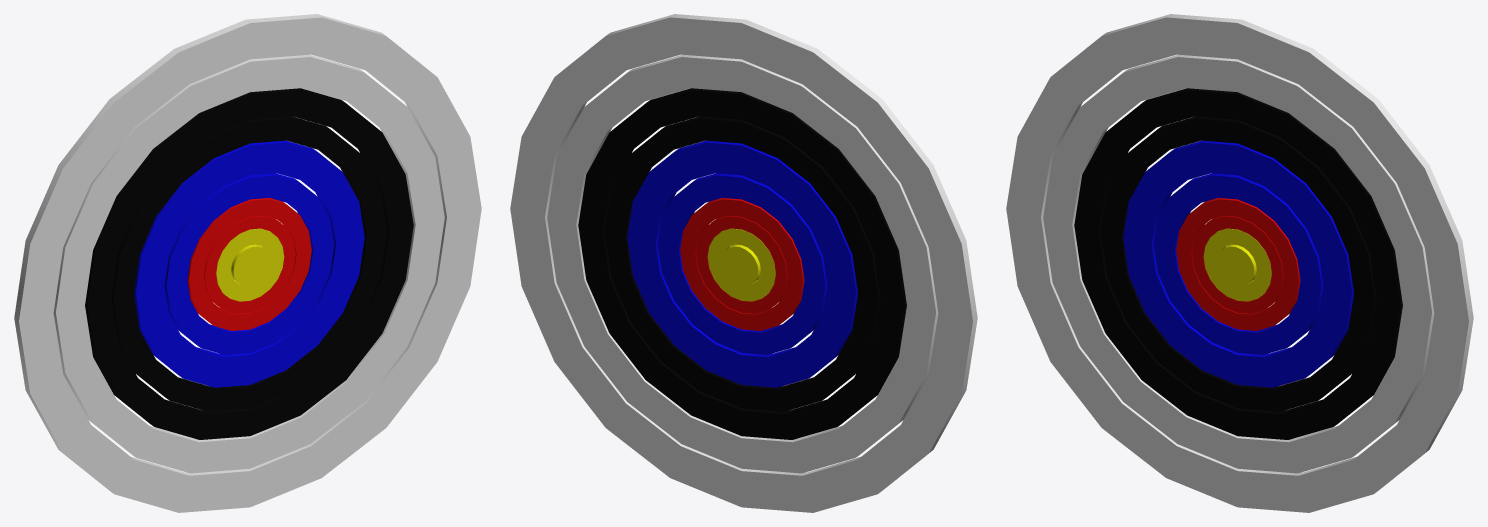
The model's file is target.fbx.
3 views of the same model, side by side, from view 1: azimuth 30°, elevation 25°; view 2: azimuth 150°, elevation 25°; view 3: azimuth 330°, elevation 25° (orthographic).
Parts seen in each view (by area): view 1: pPipe10, pPipe9, pPipe8, pPipe6, pPipe7, pPipe5, pPipe4, pPipe3, pPipe2, pCylinder1, pPipe1; view 2: pPipe10, pPipe9, pPipe8, pPipe6, pPipe7, pPipe5, pPipe4, pPipe3, pPipe2, pCylinder1, pPipe1; view 3: pPipe10, pPipe9, pPipe8, pPipe6, pPipe7, pPipe5, pPipe4, pPipe3, pPipe2, pCylinder1, pPipe1.
Part boxes in pixels (x1,y1,x2,y2): pPipe10: (14,14,481,512); pPipe9: (53,54,444,473); pPipe8: (85,88,413,439); pPipe6: (134,140,364,387); pPipe7: (111,116,387,411); pPipe5: (164,173,333,354); pPipe4: (187,198,311,330); pPipe3: (204,215,295,313); pPipe2: (216,228,284,301); pCylinder1: (231,244,270,286); pPipe1: (225,237,275,292); pPipe10: (510,14,977,512); pPipe9: (547,54,938,473); pPipe8: (578,88,906,439); pPipe6: (627,140,857,387); pPipe7: (604,116,880,411); pPipe5: (658,173,827,354); pPipe4: (680,198,804,330); pPipe3: (696,215,787,313); pPipe2: (707,228,775,301); pCylinder1: (721,244,760,286); pPipe1: (716,238,766,292); pPipe10: (1006,14,1473,512); pPipe9: (1043,54,1434,473); pPipe8: (1074,88,1402,439); pPipe6: (1123,140,1353,387); pPipe7: (1100,116,1376,411); pPipe5: (1154,173,1323,354); pPipe4: (1176,198,1300,330); pPipe3: (1192,215,1283,313); pPipe2: (1203,228,1271,301); pCylinder1: (1217,244,1256,286); pPipe1: (1212,237,1262,292).
Bounding box in the file's own units: 2.85 × 2.85 × 0.0923.
